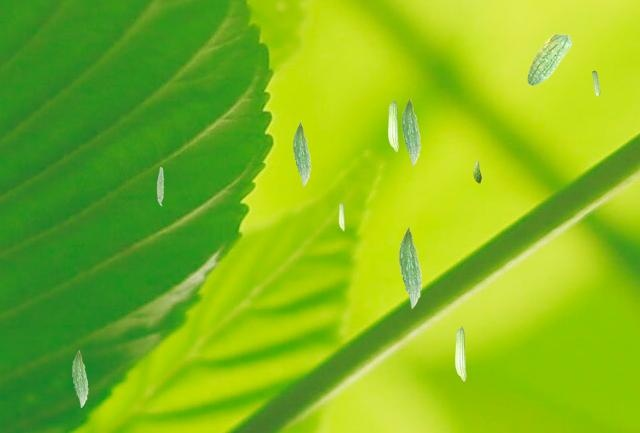ampalaya: (527, 33, 572, 86), (398, 226, 422, 309), (401, 98, 421, 166), (292, 121, 311, 187), (71, 349, 88, 408), (454, 325, 466, 381), (387, 99, 399, 152), (156, 166, 164, 206), (472, 157, 482, 184), (591, 70, 600, 96), (338, 201, 345, 231)
